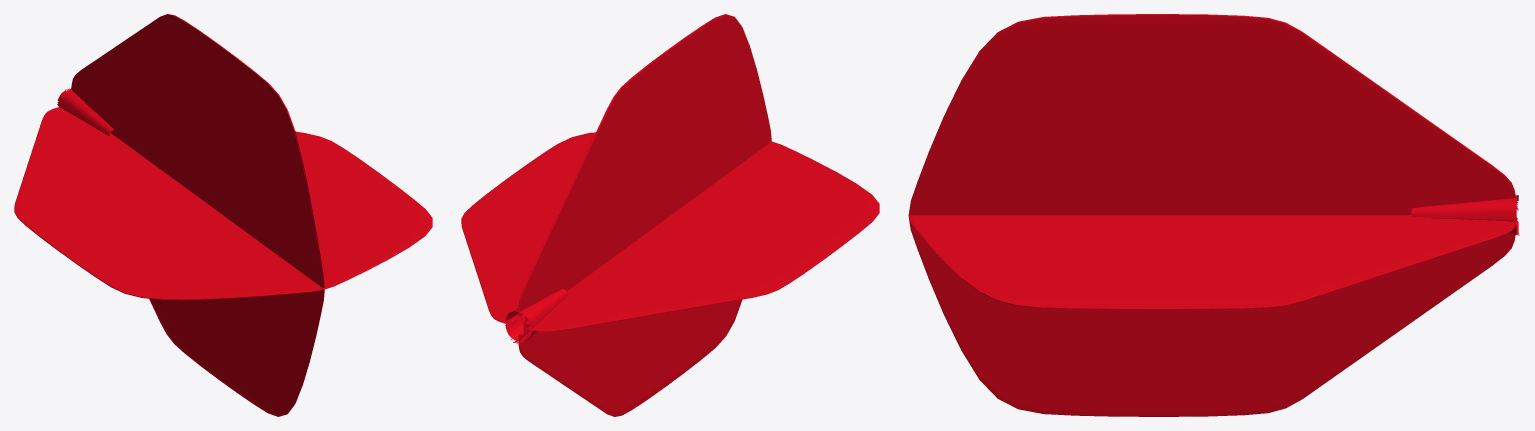
File: dart.glb
The picture shows the model from 3 angles, left to right: view 1: azimuth 30°, elevation 25°; view 2: azimuth 150°, elevation 25°; view 3: azimuth 270°, elevation 25°; orthographic projection. The views are drawn at different scales.
Visible parts, largest first — view 1: dart_tail; view 2: dart_tail; view 3: dart_tail.
Part boxes in pixels (bbox=[...]): dart_tail: bbox=[14, 14, 432, 416]; dart_tail: bbox=[461, 14, 879, 416]; dart_tail: bbox=[908, 14, 1519, 416].
Bounding box in the file's own units: 0.3779 × 0.3779 × 0.5208.
